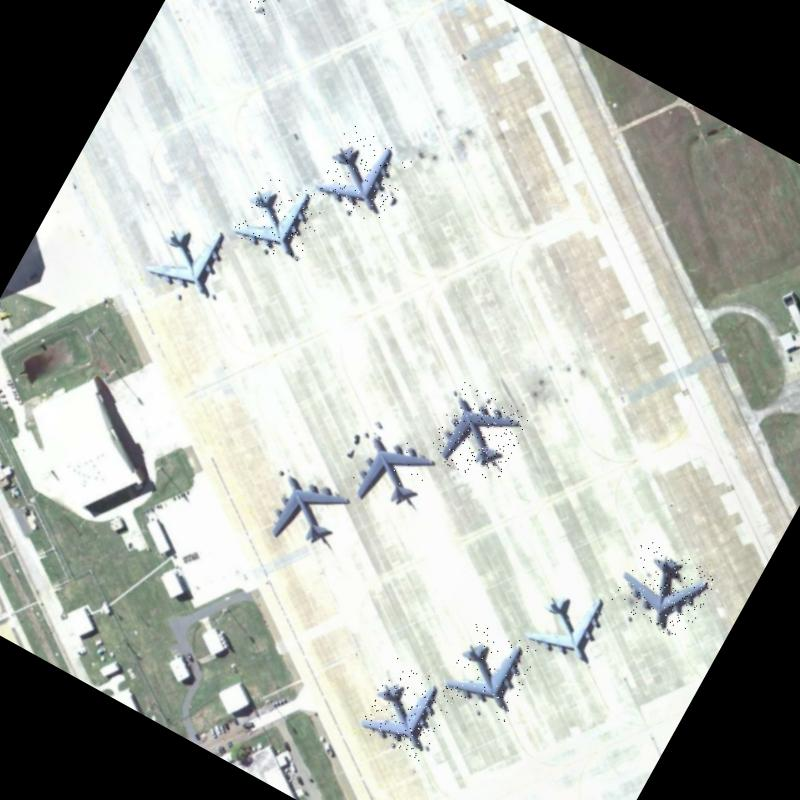A8: (607, 534, 719, 643), (424, 378, 532, 490), (257, 462, 364, 568), (311, 122, 417, 228), (140, 204, 245, 311), (356, 657, 458, 763), (440, 618, 542, 722), (342, 421, 443, 526), (522, 572, 623, 676), (230, 165, 331, 268)
